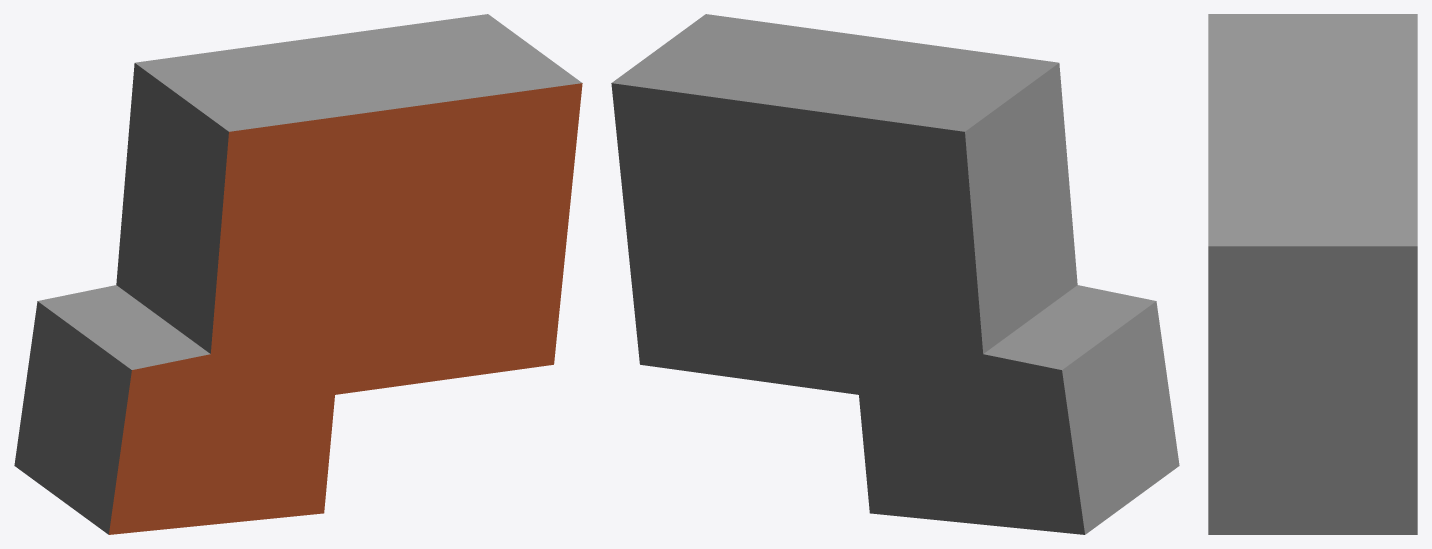
The model's file is construction_3605_assumed_A_Casa_h6m.obj.
3 views of the same model, side by side, from view 1: azimuth 30°, elevation 25°; view 2: azimuth 150°, elevation 25°; view 3: azimuth 270°, elevation 25° (orthographic). The views are drawn at different scales.
Parts seen in each view (by area): view 1: construction_3605_assumed_A_Casa; view 2: construction_3605_assumed_A_Casa; view 3: construction_3605_assumed_A_Casa.
Part boxes in pixels (box(x1,y1,x2,y2)): construction_3605_assumed_A_Casa: box(14, 14, 582, 534); construction_3605_assumed_A_Casa: box(611, 14, 1179, 534); construction_3605_assumed_A_Casa: box(1208, 14, 1417, 534).
Bounding box in the file's own units: 17.38 × 14.19 × 6.
